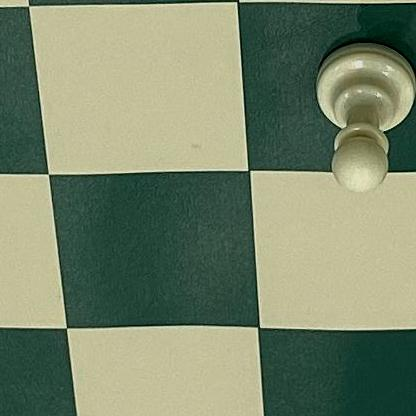white-pawn: (305, 34, 416, 207)
